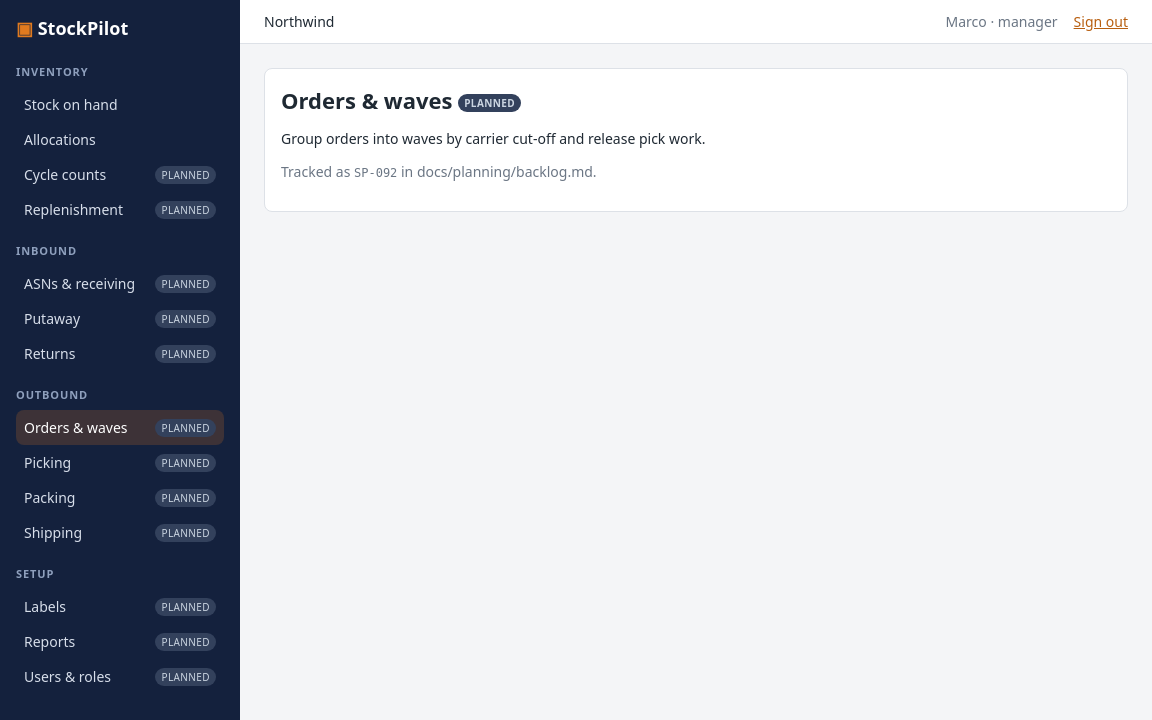
Test: authenticated app › signs out from the top bar
This screenshot has width=1152, height=720.
Click the button "Sign out": (1101, 22) [1074,12,1128,31]
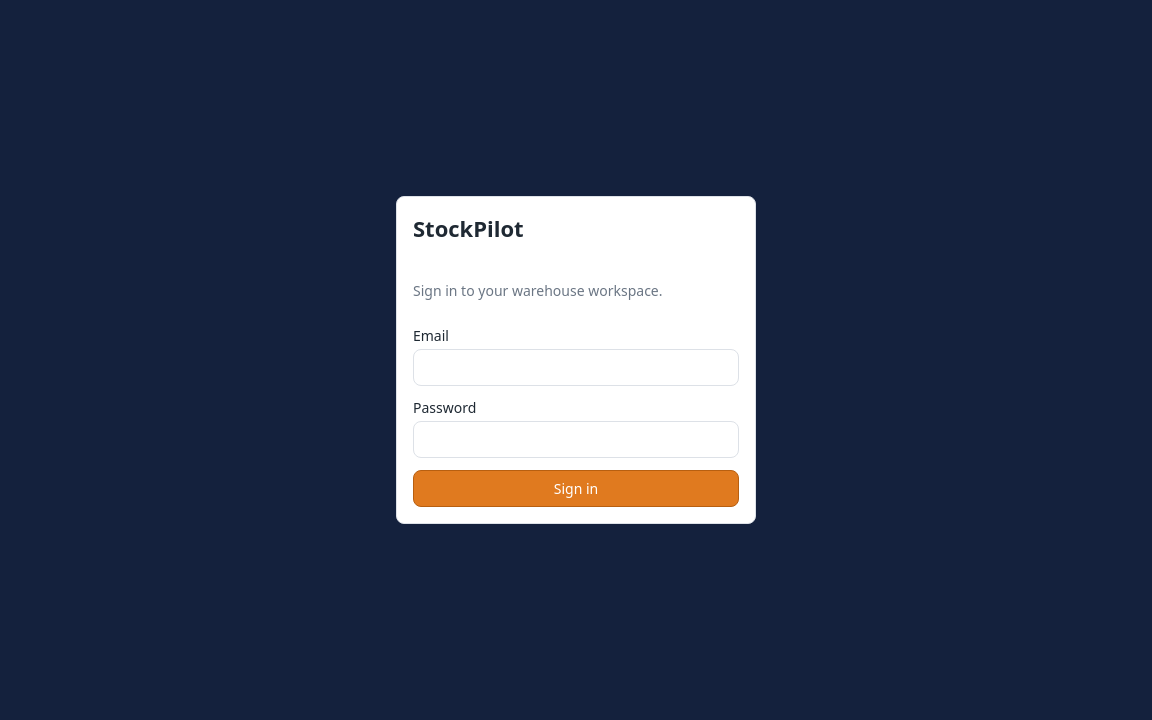
Expected: the button "Sign in" is shown, [413,470,739,507]
